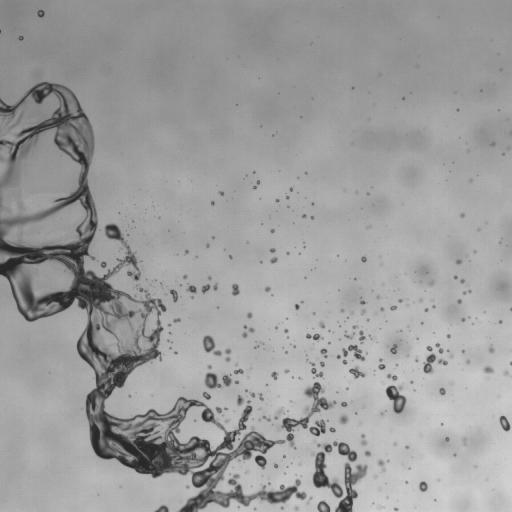droplet: (311, 442, 367, 511), (385, 384, 406, 413), (204, 371, 231, 389), (342, 344, 364, 360), (349, 365, 365, 378), (499, 416, 511, 431), (242, 325, 254, 337), (317, 500, 330, 511), (274, 407, 285, 419), (169, 289, 178, 301), (232, 283, 239, 295), (201, 284, 210, 293), (339, 414, 348, 423), (483, 365, 493, 373), (419, 481, 427, 491), (386, 373, 397, 380), (187, 285, 196, 293), (378, 359, 385, 369), (237, 395, 244, 405), (320, 348, 327, 357), (390, 344, 396, 354), (202, 392, 210, 399), (345, 332, 354, 338), (438, 359, 447, 365), (37, 10, 44, 17), (234, 369, 243, 374), (270, 257, 277, 263), (225, 348, 231, 355), (271, 372, 277, 379), (216, 407, 223, 413), (489, 345, 494, 353), (439, 388, 445, 394), (319, 321, 324, 328), (101, 261, 106, 267), (247, 312, 252, 318), (329, 427, 335, 432), (173, 318, 180, 322), (361, 256, 366, 261), (456, 259, 461, 264), (265, 286, 270, 291), (249, 392, 254, 397), (341, 401, 346, 406), (365, 451, 370, 456), (213, 284, 217, 290), (390, 306, 396, 310), (462, 437, 466, 443), (294, 505, 298, 511), (259, 393, 262, 400), (270, 248, 275, 252), (360, 300, 365, 304), (295, 304, 299, 309), (361, 309, 365, 314), (225, 357, 230, 361), (342, 359, 346, 364), (320, 361, 324, 366), (504, 370, 508, 375), (19, 36, 23, 40), (219, 191, 223, 195), (460, 213, 464, 217), (270, 229, 274, 233), (460, 279, 464, 283), (429, 281, 433, 285), (457, 299, 461, 303), (353, 325, 357, 329), (369, 335, 373, 339), (446, 334, 450, 338), (284, 369, 288, 373), (381, 411, 385, 415), (225, 419, 229, 423), (445, 437, 449, 441), (302, 214, 305, 218), (184, 250, 188, 253), (183, 275, 187, 278), (380, 308, 384, 311), (284, 329, 287, 333), (336, 355, 340, 358), (405, 445, 409, 448), (394, 507, 397, 511), (289, 187, 292, 190), (211, 202, 214, 205), (454, 275, 457, 278), (341, 309, 344, 312), (462, 318, 465, 321), (461, 349, 464, 352), (415, 358, 418, 361), (208, 365, 211, 368), (274, 464, 277, 467), (186, 485, 189, 488), (0, 156, 2, 160), (276, 199, 278, 202), (311, 216, 313, 219), (206, 244, 209, 246), (229, 255, 231, 258), (208, 277, 211, 279), (399, 299, 401, 302), (432, 305, 435, 307), (425, 308, 427, 311), (499, 320, 501, 323), (235, 380, 237, 383), (257, 181, 259, 183), (254, 186, 256, 188), (286, 196, 288, 198), (377, 296, 379, 298), (451, 355, 453, 357), (467, 361, 469, 363), (380, 506, 382, 508)
ligament: (0, 92, 335, 511), (202, 335, 221, 355), (423, 346, 436, 373), (310, 362, 323, 377), (306, 333, 322, 341), (377, 459, 385, 471), (154, 505, 169, 511), (435, 343, 443, 353), (359, 330, 365, 342), (361, 434, 366, 445), (262, 415, 270, 421), (255, 342, 262, 348), (463, 290, 471, 294), (510, 361, 511, 365)
